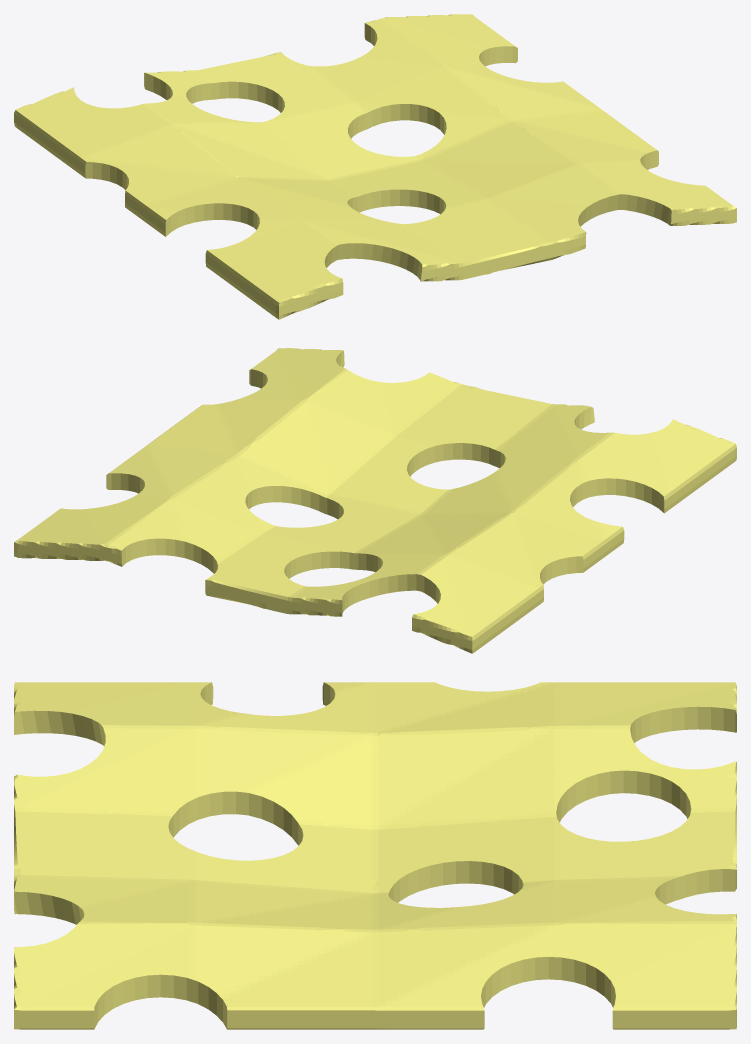
The model's file is swissCheese.glb.
3 renders of one model, top to bottom at view 1: azimuth 30°, elevation 25°; view 2: azimuth 150°, elevation 25°; view 3: azimuth 270°, elevation 25°, orthographic. The views are drawn at different scales.
Visible parts, largest first — view 1: buffer_0_mesh_0_prim5.001; view 2: buffer_0_mesh_0_prim5.001; view 3: buffer_0_mesh_0_prim5.001.
Part boxes in pixels (bbox=[...]): buffer_0_mesh_0_prim5.001: bbox=[14, 14, 736, 319]; buffer_0_mesh_0_prim5.001: bbox=[14, 348, 736, 653]; buffer_0_mesh_0_prim5.001: bbox=[14, 682, 736, 1029].
Size of the model in its own units: 10.7 by 1.1 by 10.7.
